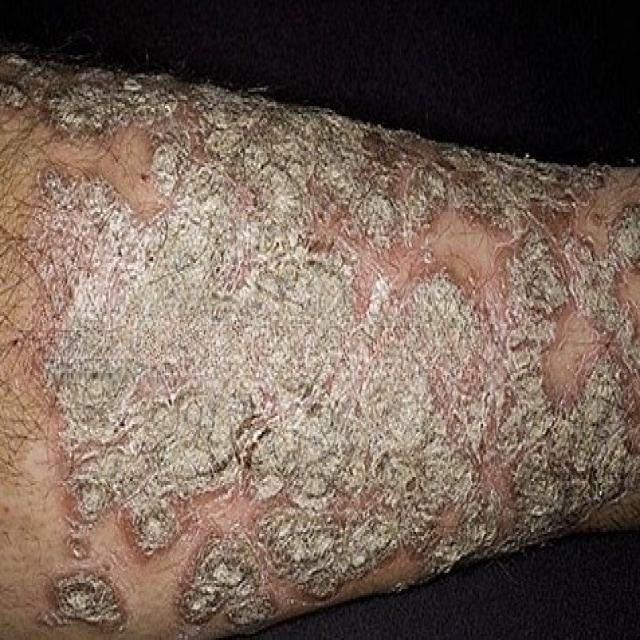Psoriasis Vulgar: (0, 53, 639, 638), (0, 110, 51, 277)
